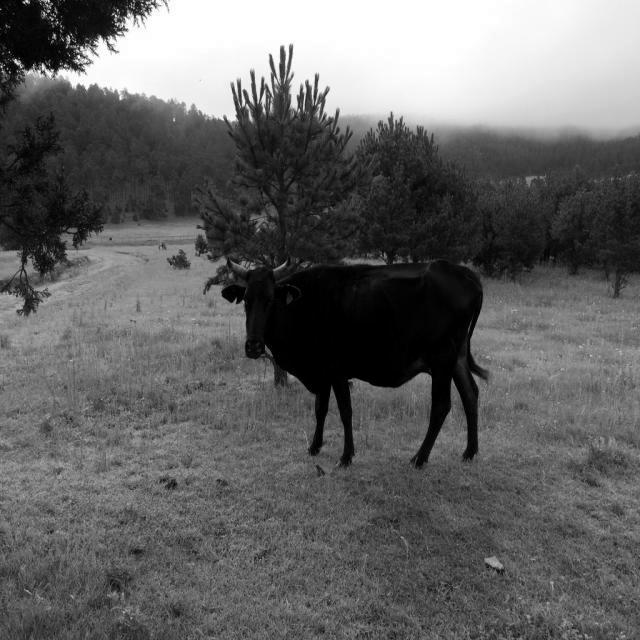COW: (221, 261, 486, 468)
